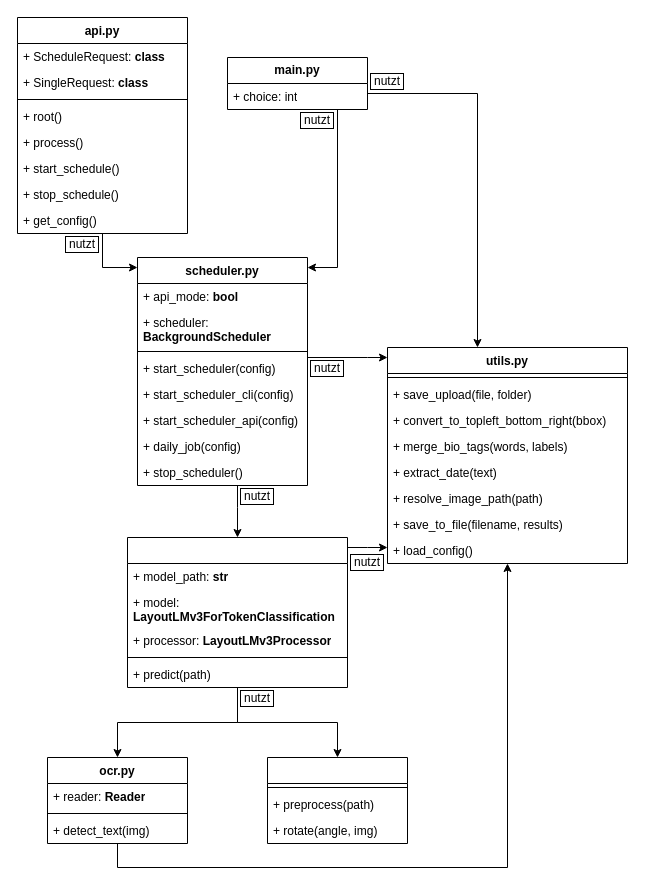
This 645x893 diagram has some shape labels left out. Each missing label, with the box of its shape:
layoutlm.py: (126, 536, 348, 688)
preprocessing.py: (266, 756, 408, 844)
